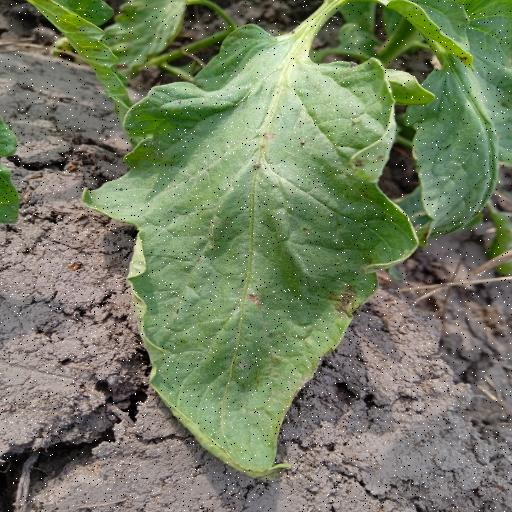Tomato_healthy: (79, 14, 419, 486)
